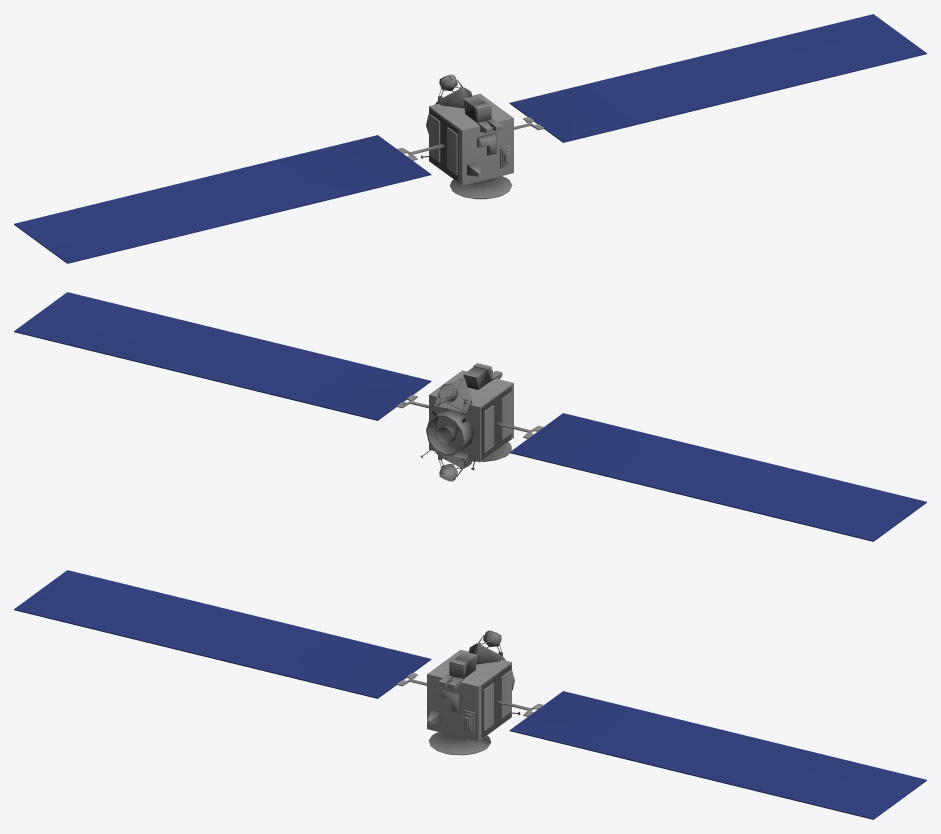
The model's file is space-satellites-satellite_v10.fbx.
3 renders of one model, top to bottom at view 1: azimuth 30°, elevation 25°; view 2: azimuth 150°, elevation 25°; view 3: azimuth 330°, elevation 25°, orthographic.
Visible parts, largest first — view 1: Satellite_v10; view 2: Satellite_v10; view 3: Satellite_v10.
Part boxes in pixels (<box>): Satellite_v10: <box>14,14,926,263</box>; Satellite_v10: <box>14,292,926,541</box>; Satellite_v10: <box>14,570,926,819</box>.
Size of the model in its own units: 8 by 0.8695 by 0.8632.
